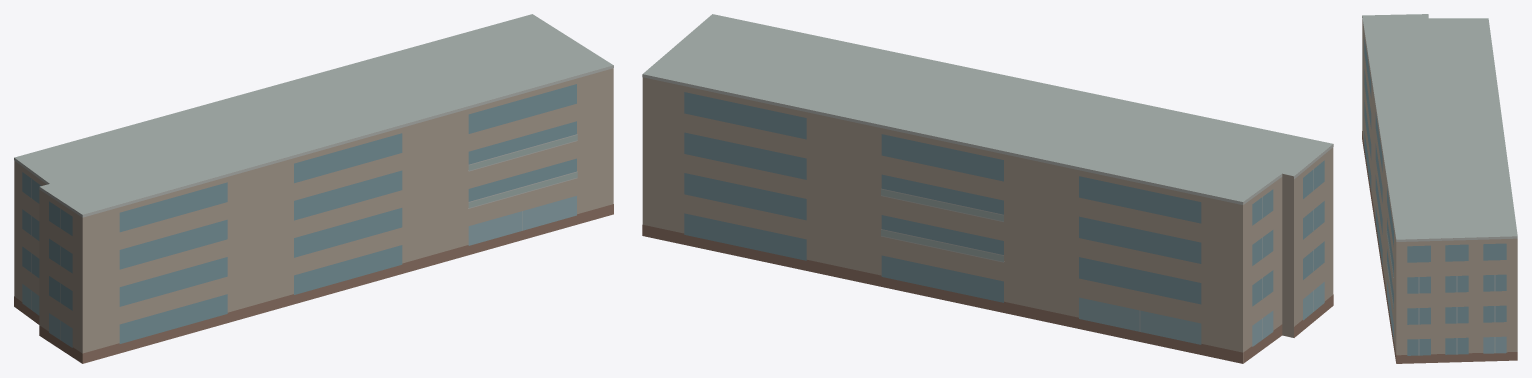
Rendered from survey-upis-32882547.glb.
3 renders of one model, left to right at view 1: azimuth 30°, elevation 25°; view 2: azimuth 150°, elevation 25°; view 3: azimuth 270°, elevation 25°, orthographic. The views are drawn at different scales.
Visible parts, largest first — view 1: survey-upis-32882547.tmp; view 2: survey-upis-32882547.tmp; view 3: survey-upis-32882547.tmp.
Part boxes in pixels (left/top/right/bottom): survey-upis-32882547.tmp: left=14, top=14, right=613, bottom=363; survey-upis-32882547.tmp: left=642, top=14, right=1333, bottom=363; survey-upis-32882547.tmp: left=1362, top=14, right=1517, bottom=363.
Size of the model in its own units: 49.9 by 12.8 by 14.54.
